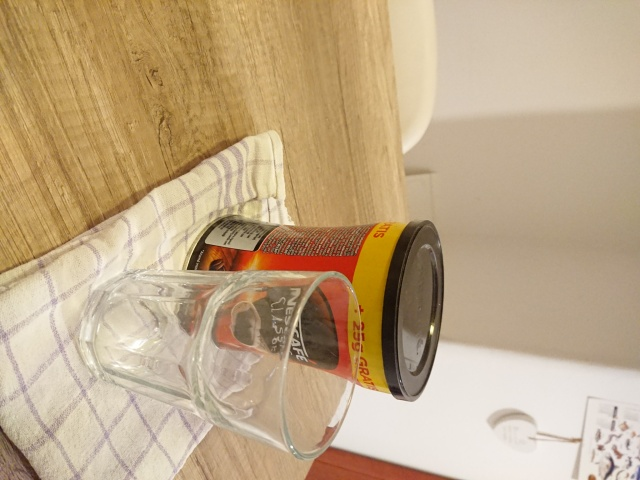Nescafe Classic 225g: (173, 212, 448, 406)
